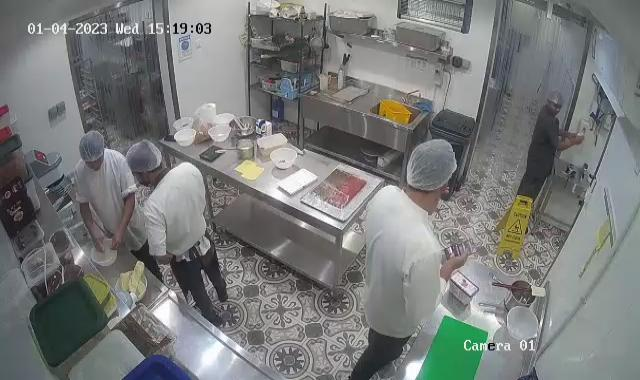hairnet: (406, 139, 460, 190), (128, 139, 162, 174), (77, 128, 109, 164), (545, 93, 568, 111)
